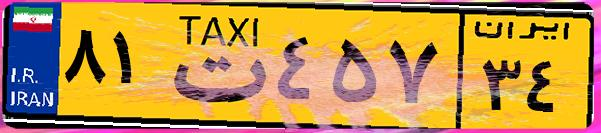1: (110, 28, 158, 98)
3: (475, 38, 525, 113)
4: (270, 28, 330, 110), (525, 38, 570, 115)
5: (330, 28, 385, 110)
7: (385, 28, 445, 110)
8: (57, 26, 110, 100)
ت: (158, 12, 270, 120)
